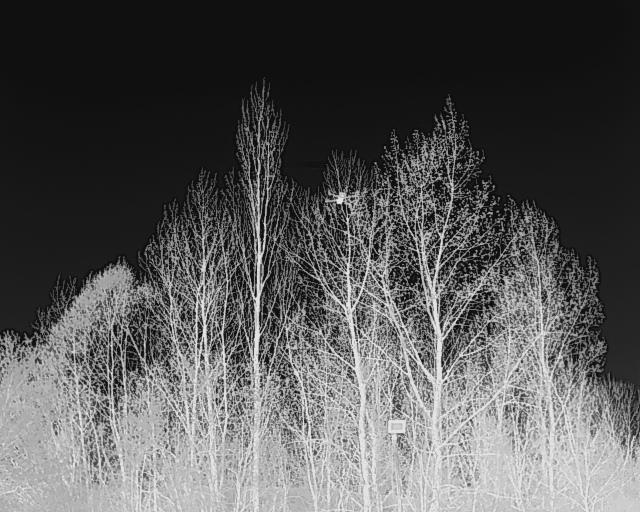drone: (321, 187, 361, 211)
